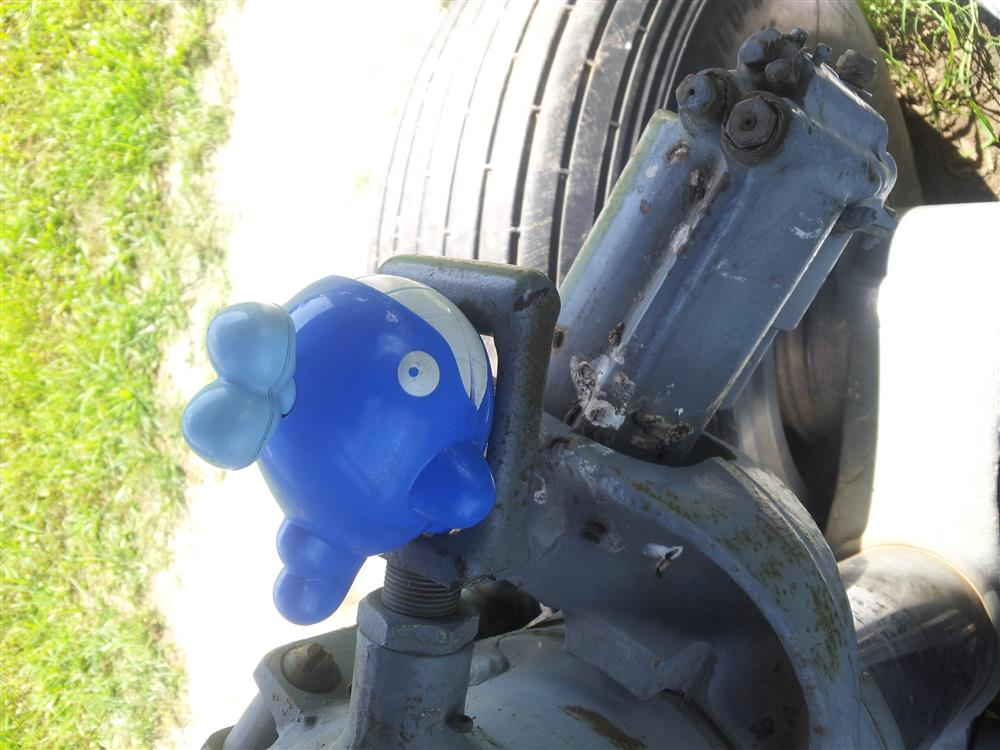toy_whale: (183, 262, 501, 631)
